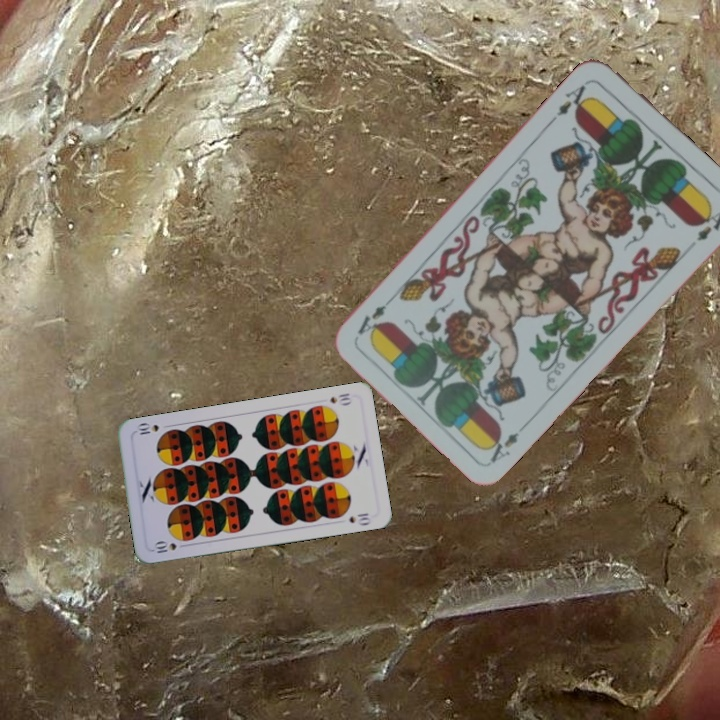EA: (481, 418, 531, 466), (547, 81, 595, 124)
S10: (149, 538, 190, 556), (326, 389, 354, 407)
